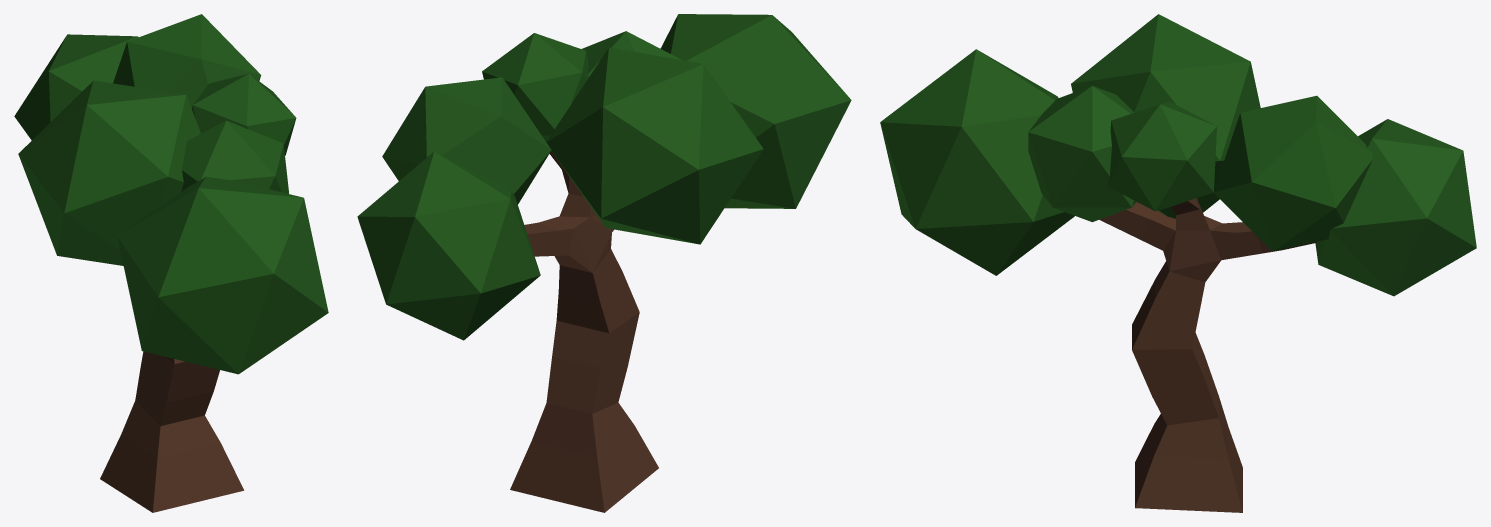
Rendered from treecollV1.fbx.
3 renders of one model, left to right at view 1: azimuth 30°, elevation 25°; view 2: azimuth 150°, elevation 25°; view 3: azimuth 270°, elevation 25°, orthographic. The views are drawn at different scales.
Visible parts, largest first — view 1: Cube; view 2: Cube; view 3: Cube.
Part boxes in pixels (<box>): Cube: <box>14,14,328,512</box>; Cube: <box>357,14,851,512</box>; Cube: <box>880,14,1476,512</box>.
Bounding box in the file's own units: 351 × 529 × 671.
